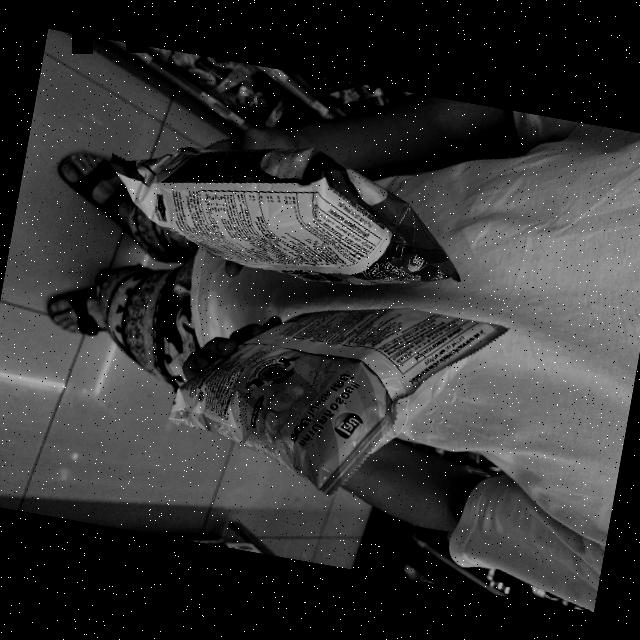snack_bag: (155, 266, 510, 524), (81, 104, 482, 316)
